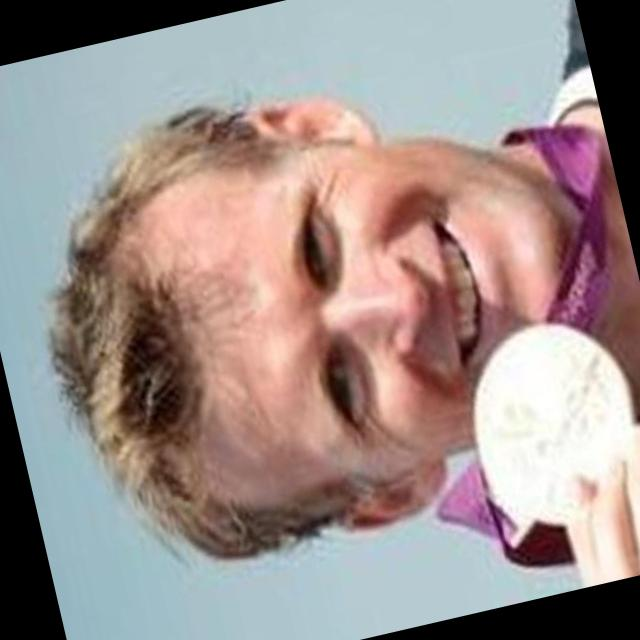bareface: (72, 69, 588, 560)
